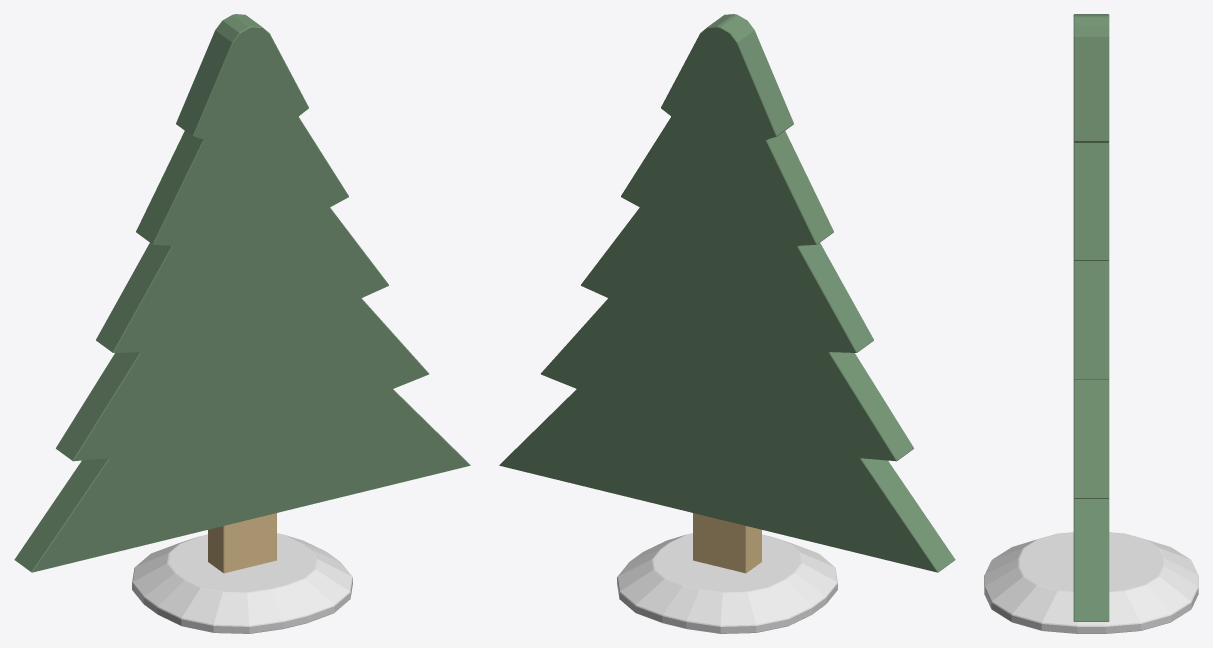
The model's file is deco_tree.fbx.
3 renders of one model, left to right at view 1: azimuth 30°, elevation 25°; view 2: azimuth 150°, elevation 25°; view 3: azimuth 270°, elevation 25°, orthographic.
Visible parts, largest first — view 1: deco_tree; view 2: deco_tree; view 3: deco_tree.
Boxes of the visible parts, <box> form: deco_tree: <box>14,14,470,633</box>; deco_tree: <box>499,14,955,633</box>; deco_tree: <box>984,14,1198,633</box>.
Bounding box in the file's own units: 187 × 78.16 × 230.
